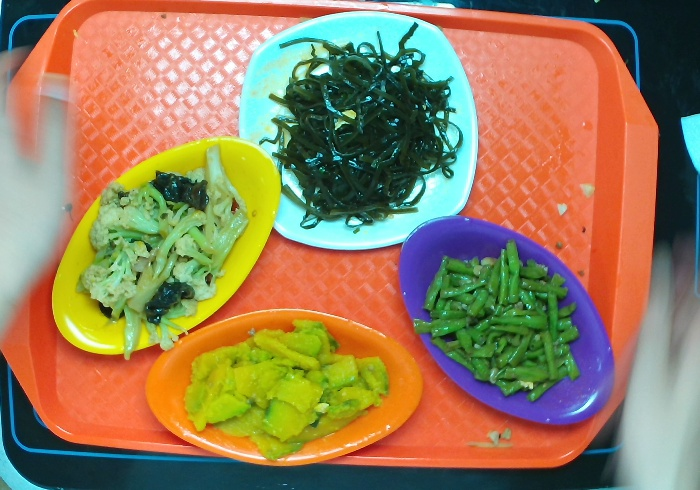RJxy-Fen_Hong_Tuo_Yuan: (396, 213, 615, 426)
RJxy-Huang_Se_Tuo_Yuan: (48, 137, 279, 358)
RJxy-Ju_Huang_Tuo_Yuan: (142, 305, 426, 466)
RJxy-Si_Fang_Die: (239, 11, 483, 253)
